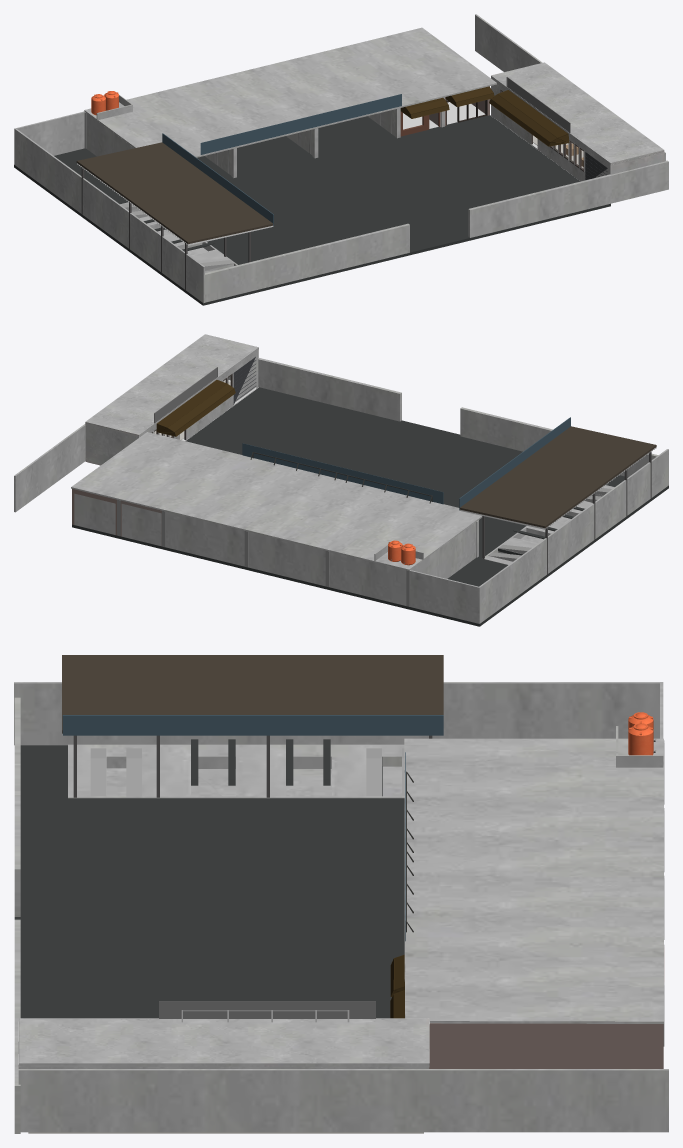
Rendered from car-wash.access-v24.lod0.glb.
3 renders of one model, top to bottom at view 1: azimuth 30°, elevation 25°; view 2: azimuth 150°, elevation 25°; view 3: azimuth 270°, elevation 25°, orthographic. The views are drawn at different scales.
Parts seen in each view (by area): view 1: Cube.001_Baked_Cube.001_Baked.006_0, Plane.003_Baked_Plane.003_Baked.006_0, Cube.027_Baked_Cube.027_Baked.006_0, Cylinder.001_Baked_Cylinder.001_Baked.006_0; view 2: Plane.003_Baked_Plane.003_Baked.006_0, Cube.001_Baked_Cube.001_Baked.006_0, Cube.027_Baked_Cube.027_Baked.006_0, Cylinder.001_Baked_Cylinder.001_Baked.006_0; view 3: Plane.003_Baked_Plane.003_Baked.006_0, Cube.001_Baked_Cube.001_Baked.006_0, Cube.027_Baked_Cube.027_Baked.006_0, Cylinder.001_Baked_Cylinder.001_Baked.006_0.
Part boxes in pixels (bbox=[...]): Cube.001_Baked_Cube.001_Baked.006_0: bbox=[14, 77, 610, 305]; Plane.003_Baked_Plane.003_Baked.006_0: bbox=[14, 14, 668, 303]; Cube.027_Baked_Cube.027_Baked.006_0: bbox=[491, 62, 664, 181]; Cylinder.001_Baked_Cylinder.001_Baked.006_0: bbox=[91, 91, 118, 115]; Plane.003_Baked_Plane.003_Baked.006_0: bbox=[14, 358, 668, 623]; Cube.001_Baked_Cube.001_Baked.006_0: bbox=[72, 357, 668, 626]; Cube.027_Baked_Cube.027_Baked.006_0: bbox=[85, 334, 258, 465]; Cylinder.001_Baked_Cylinder.001_Baked.006_0: bbox=[388, 540, 415, 565]; Plane.003_Baked_Plane.003_Baked.006_0: bbox=[14, 682, 668, 1133]; Cube.001_Baked_Cube.001_Baked.006_0: bbox=[14, 655, 664, 1133]; Cube.027_Baked_Cube.027_Baked.006_0: bbox=[18, 1018, 429, 1068]; Cylinder.001_Baked_Cylinder.001_Baked.006_0: bbox=[628, 712, 655, 755].
Bounding box in the file's own units: 56 × 7.42 × 39.63.
Materials: 6 (5 with a texture image).
